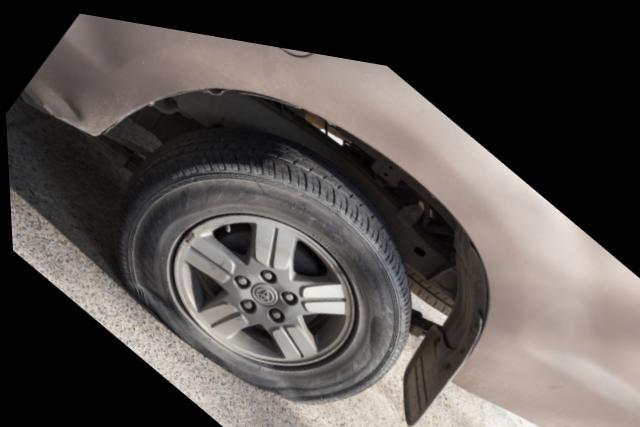dent: (522, 250, 640, 398), (48, 82, 83, 118)
tire flat: (108, 118, 408, 394)
